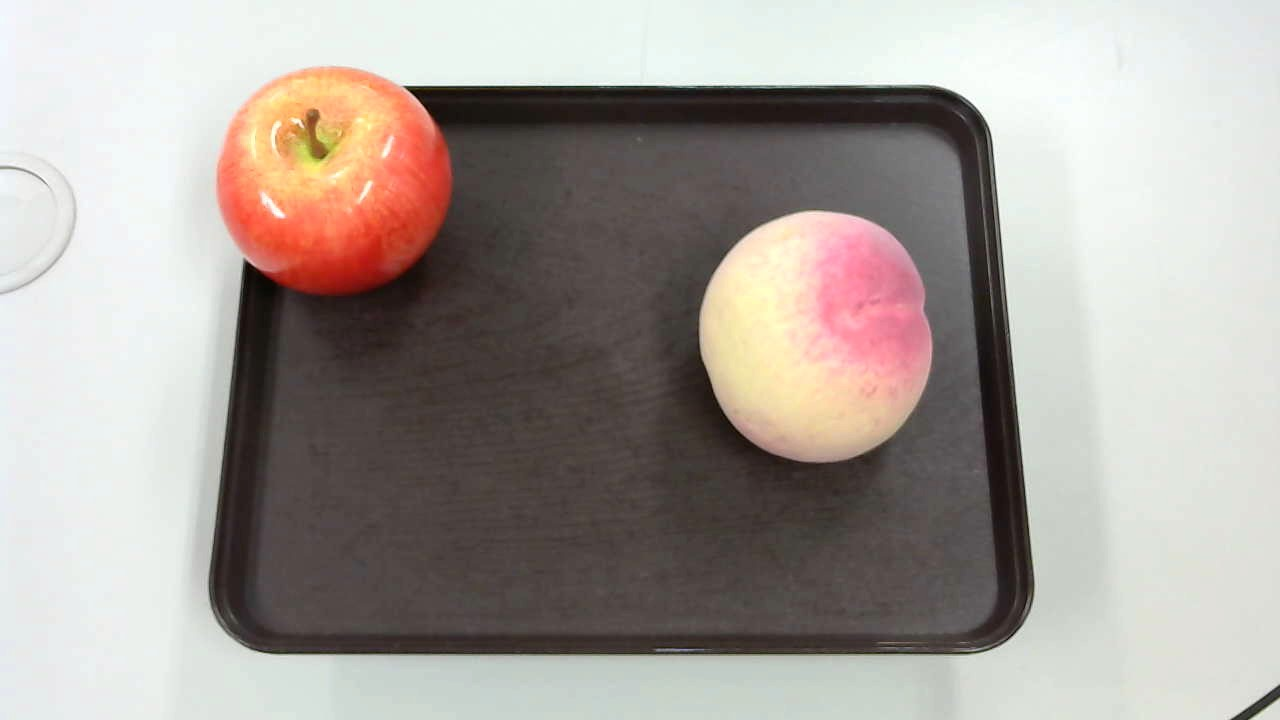peach: (689, 205, 935, 458)
red apple: (212, 60, 456, 298)
